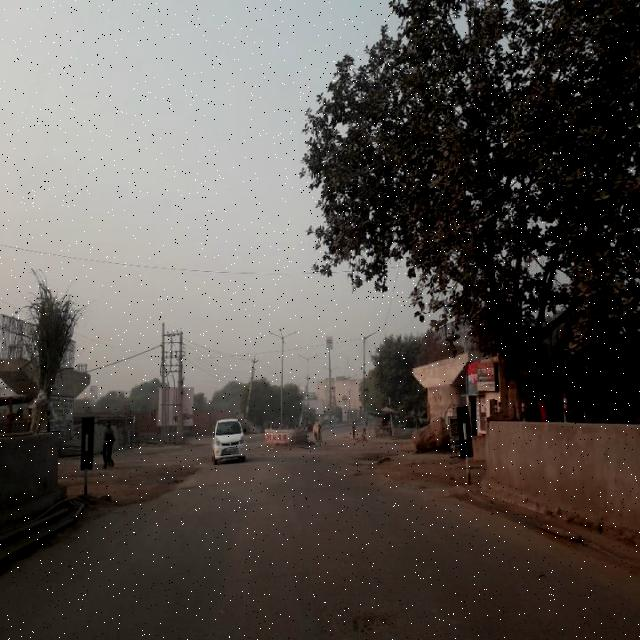D40: (340, 606, 398, 636)
